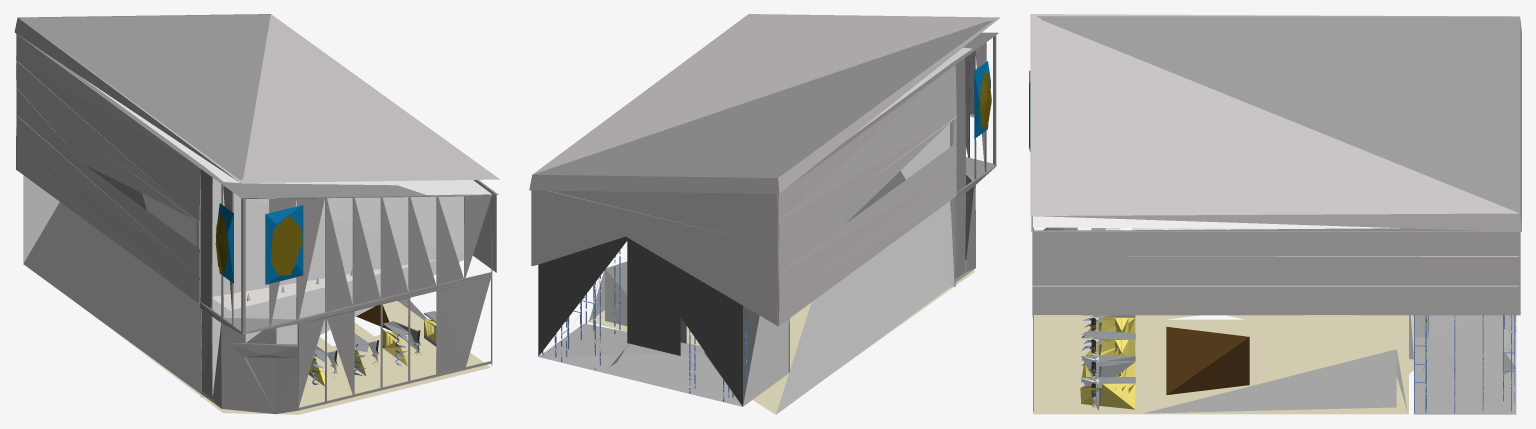
The model's file is market.lod1.glb.
3 renders of one model, left to right at view 1: azimuth 30°, elevation 25°; view 2: azimuth 150°, elevation 25°; view 3: azimuth 270°, elevation 25°, orthographic. The views are drawn at different scales.
Parts seen in each view (by area): view 1: Mesh_218; view 2: Mesh_218; view 3: Mesh_218.
Part boxes in pixels (left/top/right/bottom): Mesh_218: left=14, top=14, right=499, bottom=414; Mesh_218: left=529, top=14, right=1000, bottom=414; Mesh_218: left=1029, top=14, right=1521, bottom=414.
Bounding box in the file's own units: 19.97 × 17.83 × 29.78.
2 materials, 2 textured.
